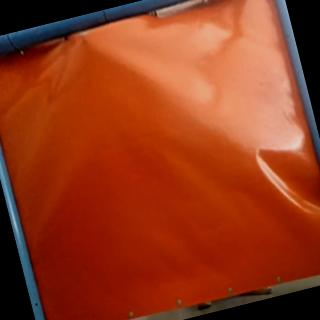Hit-hRxx: (78, 32, 91, 45)
